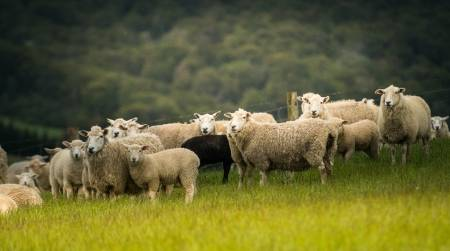sheep: (224, 107, 340, 185), (122, 140, 203, 209), (376, 79, 431, 162), (295, 88, 374, 125), (43, 136, 87, 198), (79, 126, 124, 183), (332, 114, 381, 165), (150, 110, 220, 141), (1, 171, 46, 212), (430, 109, 450, 149)
